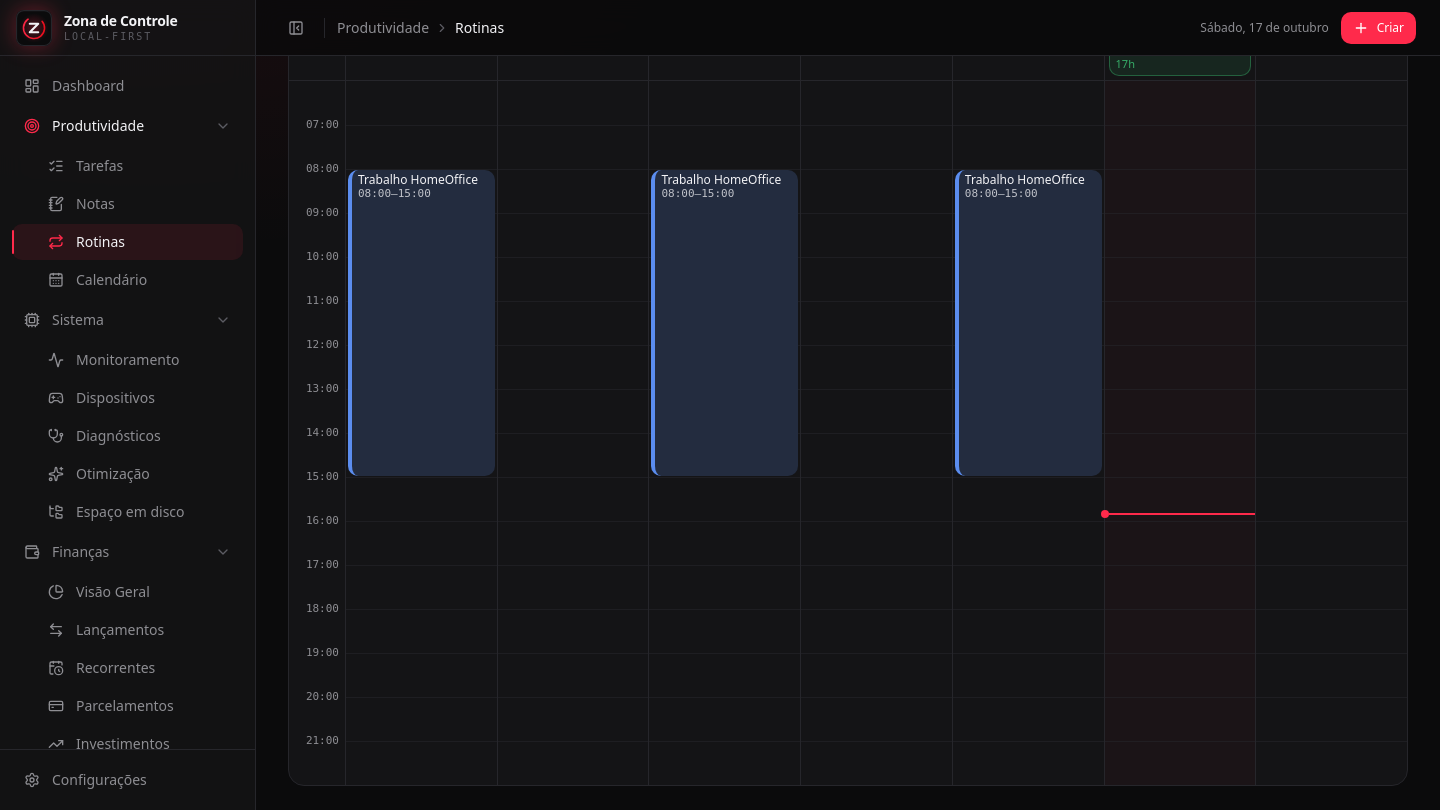
Test: planejamento semanal (aba de Rotinas) › mostra os blocos na grade e o conflito de horário sem fechar o formulário
(page scrolled)
Expected: the button with aria-label "Trabalho HomeOffice, quarta-feira, 08:00–15:00" is shown, [651,170,798,476]
# Clicar num horário vazio abre o formulário com o dia já marcado.
Click the element named "Horários de quarta-feira": (724, 433) [648,81,800,785]
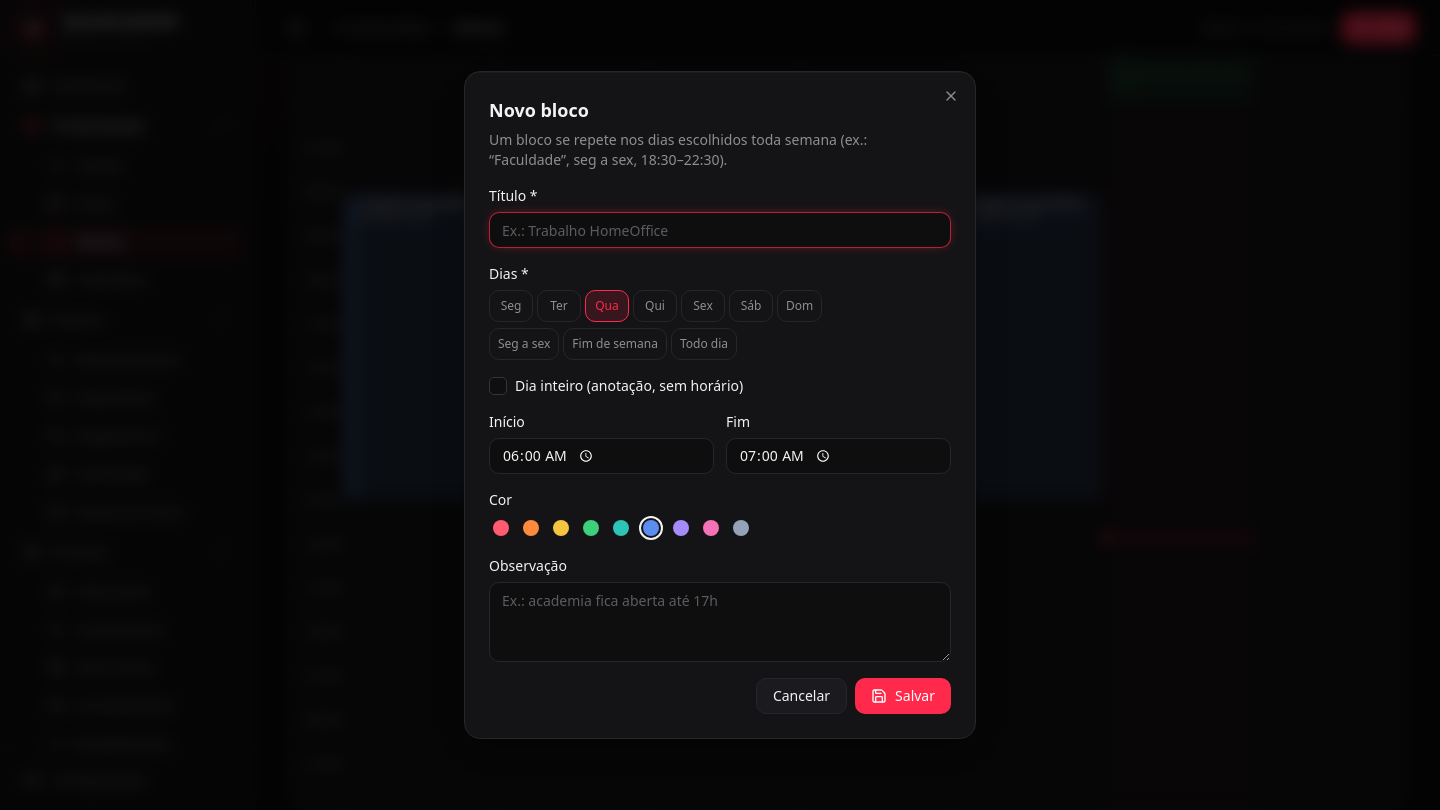
In the field labelled "Título *": (720, 230) [489,212,951,248], type "Inglês"
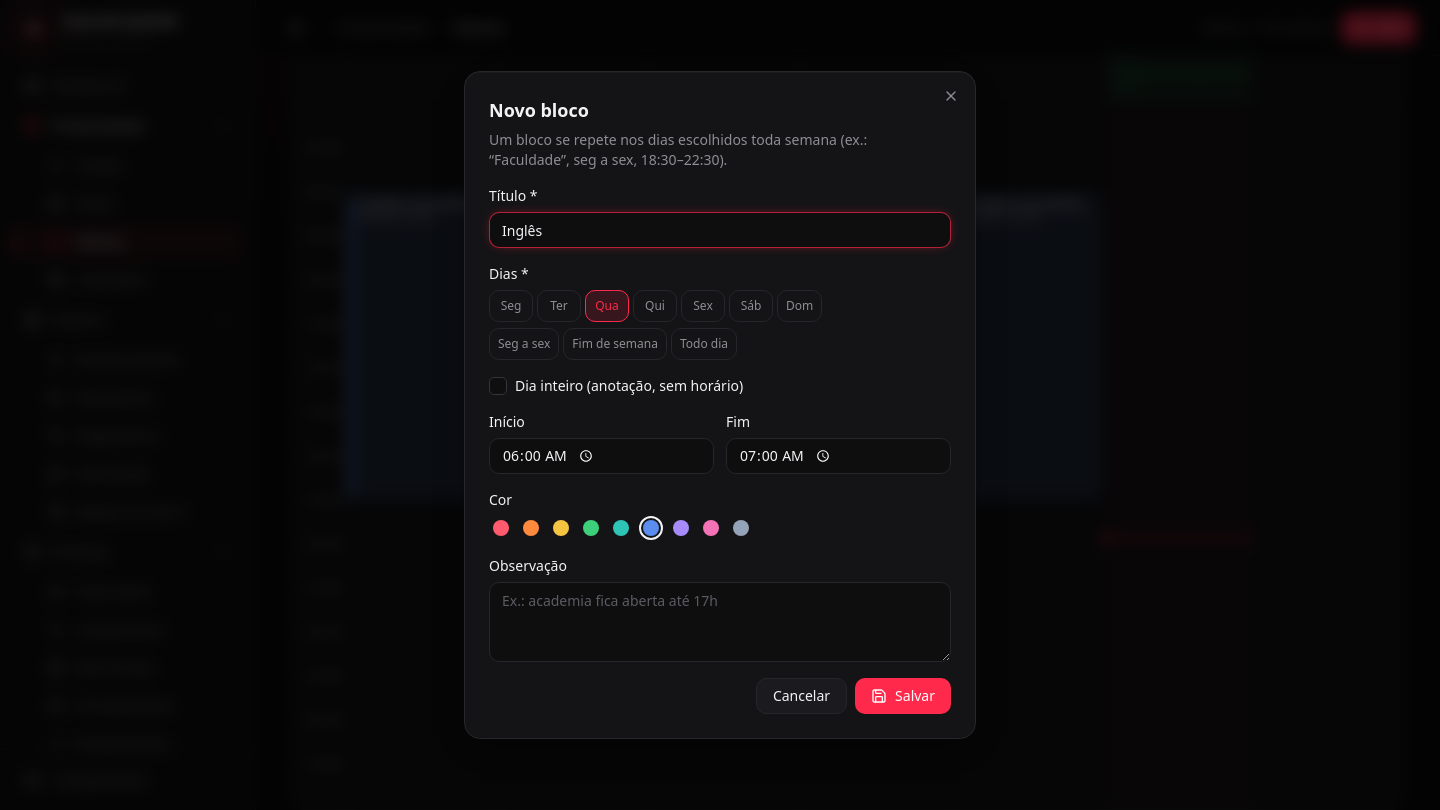
Replace the text in the time field labelled "Início" with "14:00": (602, 456) [489,438,714,474]
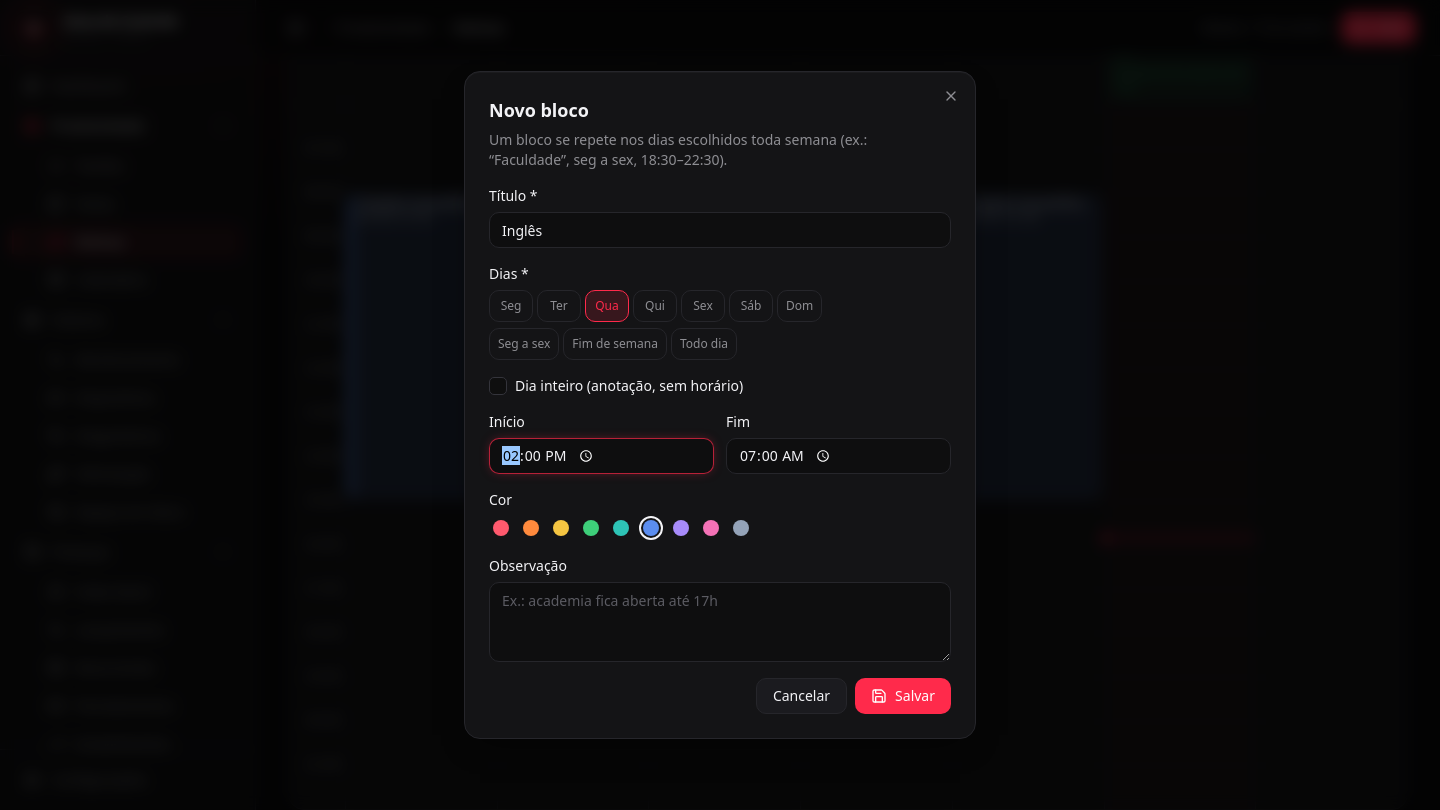
Replace the text in the time field labelled "Fim" with "16:00": (838, 456) [726,438,951,474]
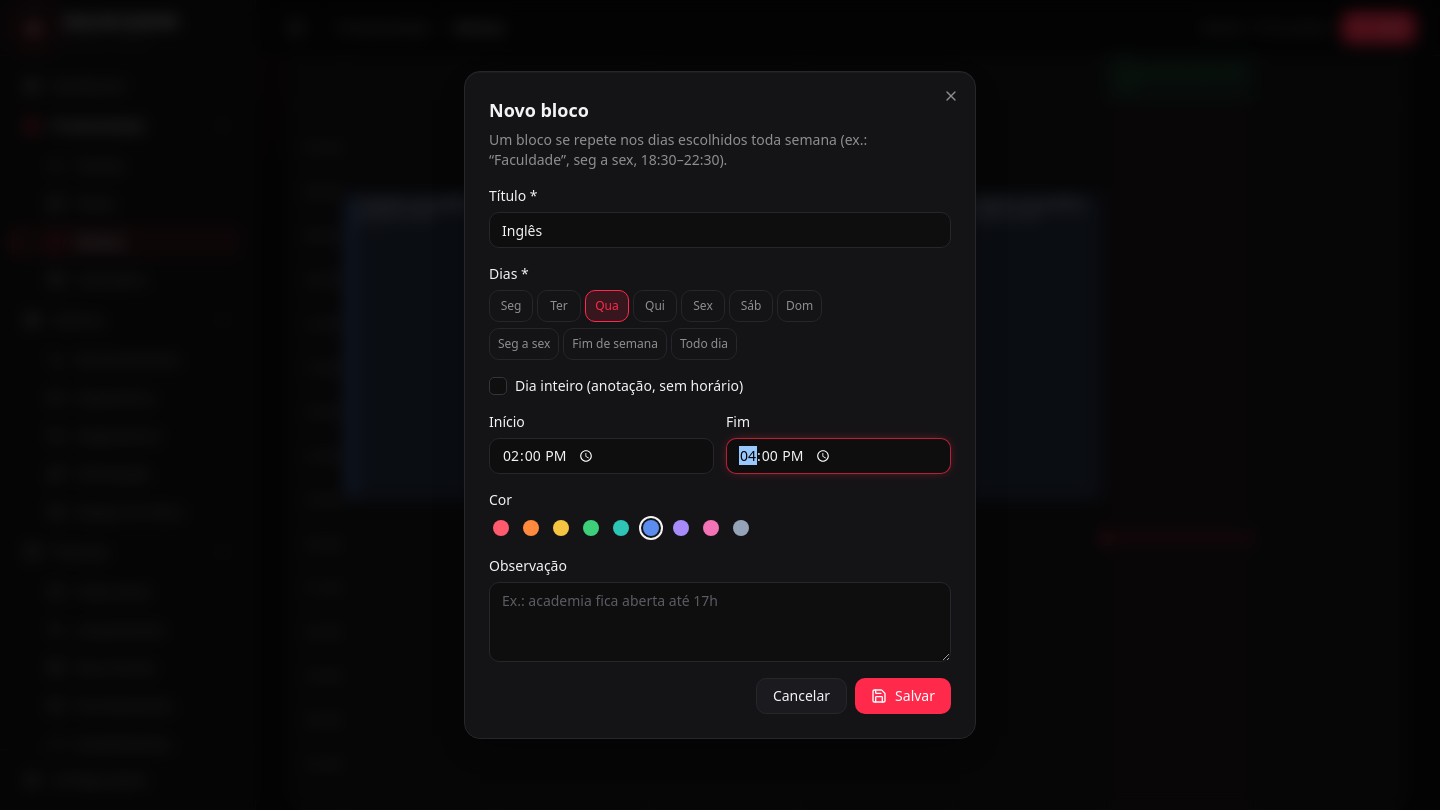
Click the button "Salvar": (903, 696) [855,678,951,714]
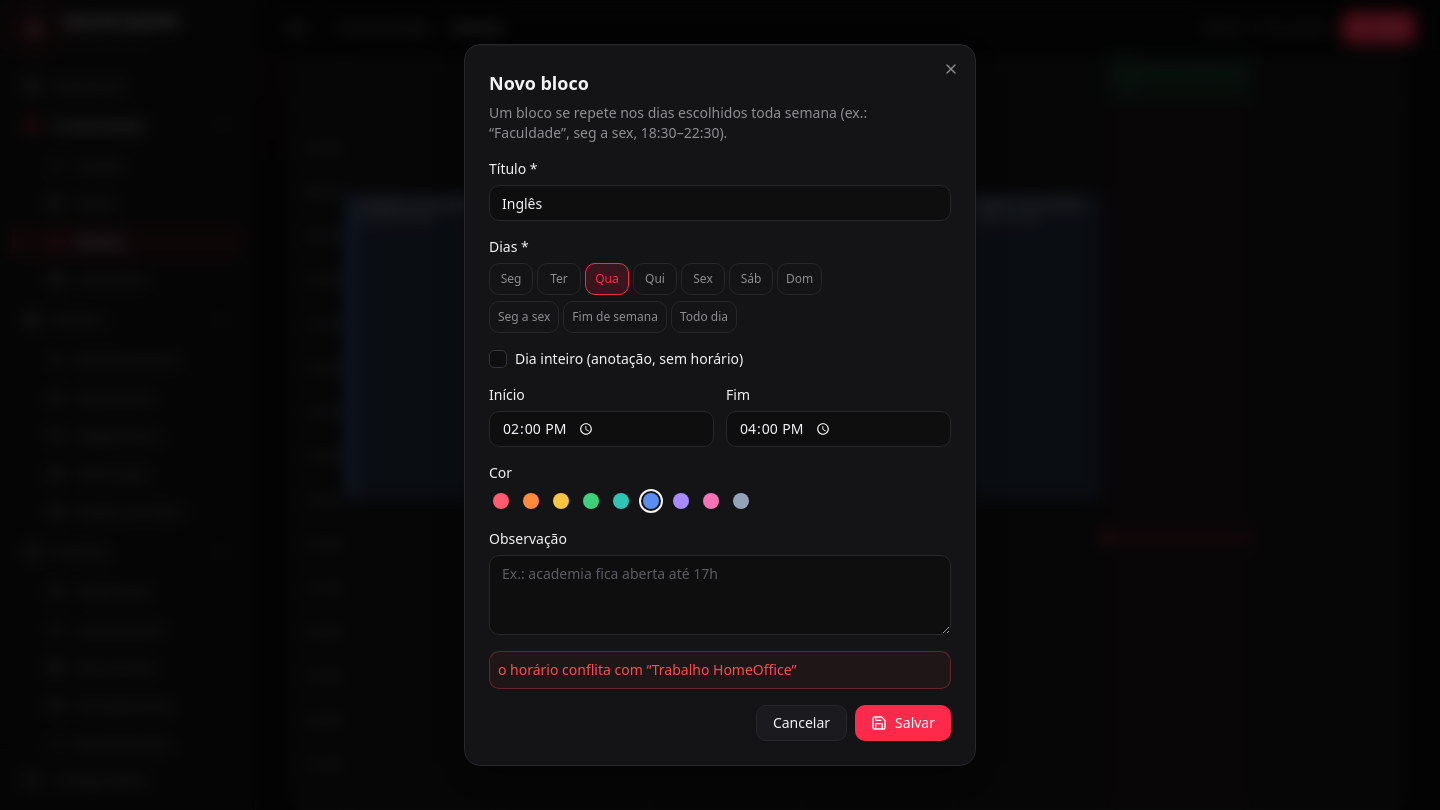
Now the dialog "Novo bloco" is shown, box [464,44,976,766]
Now the message reads "o horário conflita com “Trabalho HomeOffice”", box [498,660,796,679]
